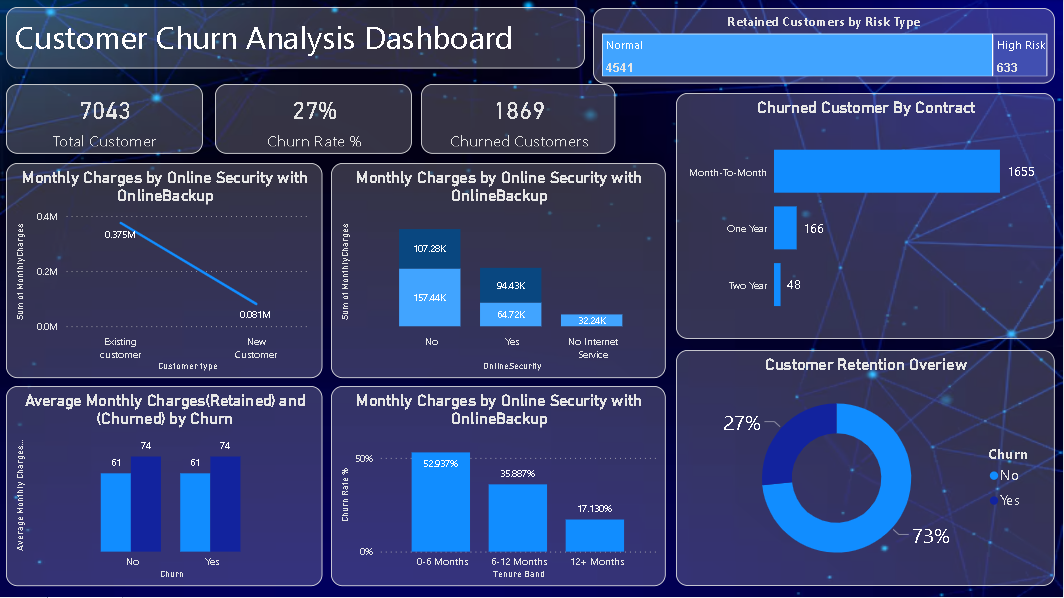

Layout of this report page (visuals, bound fields, positions):
{"tool":"powerbi","page":{"name":"Page 1","canvas":[1280,720],"ordinal":0},"visuals":[{"type":"textbox","box":[8.6,10,697.1,74.3],"z":0},{"type":"treemap","fields":{"Values":["Calculated Measure.Retained Customers"],"Group":["telco_churn_unclean.Risk Type"]},"box":[715.7,11.4,555.7,91.4],"z":1000},{"type":"card","fields":{"Values":["Calculated Measure.Total Customer"]},"box":[8.6,102.9,237.1,84.3],"z":2000},{"type":"card","fields":{"Values":["Calculated Measure.Churn Rate %"]},"box":[260,102.9,237.1,84.3],"z":3000},{"type":"card","fields":{"Values":["Calculated Measure.Churned Customers"]},"box":[508.6,102.9,234.3,84.3],"z":4000},{"type":"donutChart","title":"Customer Retention Overiew","fields":{"Y":["Calculated Measure.Total Customer"],"Category":["telco_churn_unclean.Churn"]},"box":[815.7,422.9,455.7,284.3],"z":5000},{"type":"barChart","title":"Churned Customer By Contract","fields":{"Category":["telco_churn_unclean.Contract"],"Y":["Calculated Measure.Churned Customers"]},"box":[815.7,112.9,455.7,295.7],"z":6000},{"type":"columnChart","title":" Monthly Charges by Online Security with OnlineBackup","fields":{"Category":["telco_churn_unclean.OnlineSecurity"],"Y":["Sum(telco_churn_unclean.MonthlyCharges)"],"Series":["telco_churn_unclean.OnlineBackup"]},"box":[400,197.1,402.9,258.6],"z":7000},{"type":"columnChart","title":"Churn Rate based on Tenure Band","fields":{"Y":["Calculated Measure.Churn Rate %"],"Category":["telco_churn_unclean.Tenure Band"]},"box":[400,465.7,402.9,241.4],"z":8000},{"type":"clusteredColumnChart","title":"Average Monthly Charges(Retained) and (Churned) by Churn","fields":{"Y":["Calculated Measure.Average Monthly Charges(Retained)","Calculated Measure.Average Monthly Charges(Churned)"],"Category":["telco_churn_unclean.Churn"]},"box":[8.6,465.7,381.4,241.4],"z":9000},{"type":"lineChart","title":" Monthly Charges by Online Security with OnlineBackup","fields":{"Y":["Sum(telco_churn_unclean.MonthlyCharges)"],"Category":["telco_churn_unclean.Customer type"]},"box":[8.6,197.1,381.4,258.6],"z":10000}]}

Visuals, with their boxes in screenshot pixels (x1, y1, x2, y2), scaled from the page's 1280x720 canvas onto the 1064x598 screenshot:
textbox: bbox=[7, 8, 587, 70]
treemap - Calculated Measure.Retained Customers x telco_churn_unclean.Risk Type: bbox=[595, 9, 1057, 85]
card - Calculated Measure.Total Customer: bbox=[7, 85, 204, 155]
card - Calculated Measure.Churn Rate %: bbox=[216, 85, 413, 155]
card - Calculated Measure.Churned Customers: bbox=[423, 85, 618, 155]
"Customer Retention Overiew" donutChart: bbox=[678, 351, 1057, 587]
"Churned Customer By Contract" barChart: bbox=[678, 94, 1057, 339]
" Monthly Charges by Online Security with OnlineBackup" columnChart: bbox=[332, 164, 667, 378]
"Churn Rate based on Tenure Band" columnChart: bbox=[332, 387, 667, 587]
"Average Monthly Charges(Retained) and (Churned) by Churn" clusteredColumnChart: bbox=[7, 387, 324, 587]
" Monthly Charges by Online Security with OnlineBackup" lineChart: bbox=[7, 164, 324, 378]
